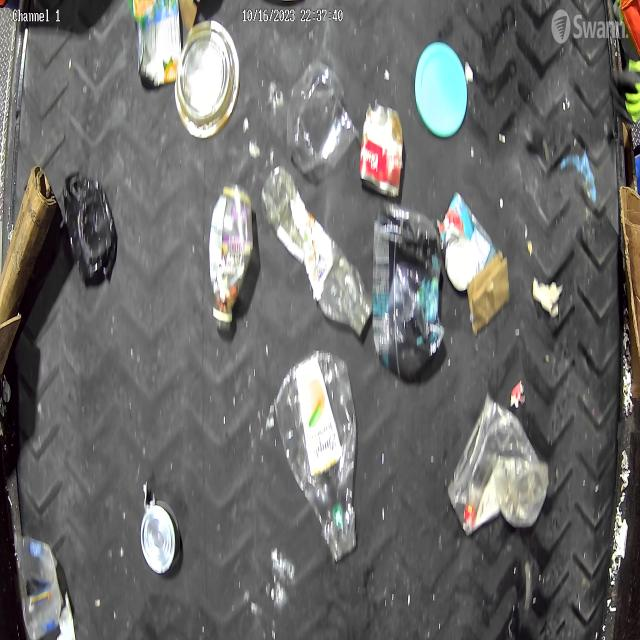can: (438, 190, 498, 294), (358, 102, 404, 201), (141, 501, 179, 576)
plastic_bottle: (268, 349, 359, 563), (259, 164, 369, 335)
